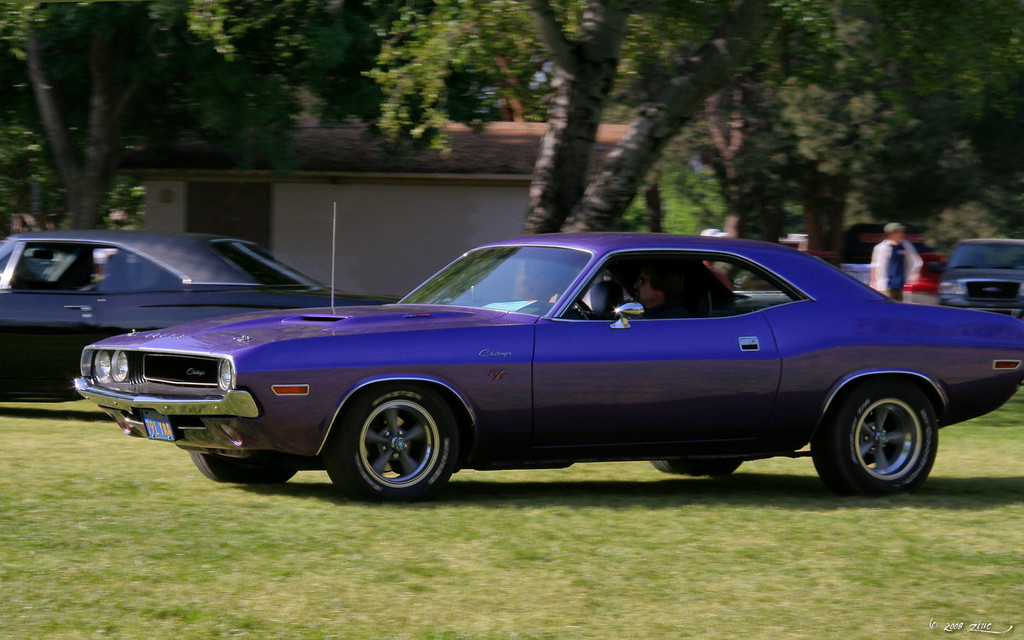Car: (69, 204, 1023, 503), (0, 230, 410, 403), (938, 240, 1023, 314)
